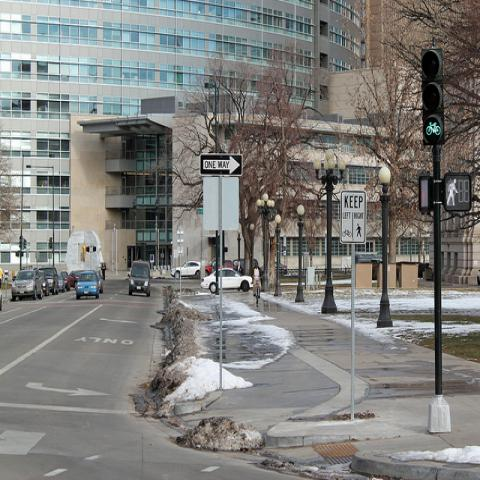car: (200, 269, 253, 293), (11, 270, 43, 301), (127, 260, 153, 297), (38, 266, 59, 297), (76, 272, 100, 299), (170, 260, 200, 278), (204, 259, 234, 276), (57, 270, 71, 293), (68, 270, 83, 290), (95, 270, 103, 294)
truck: (128, 260, 152, 297)
